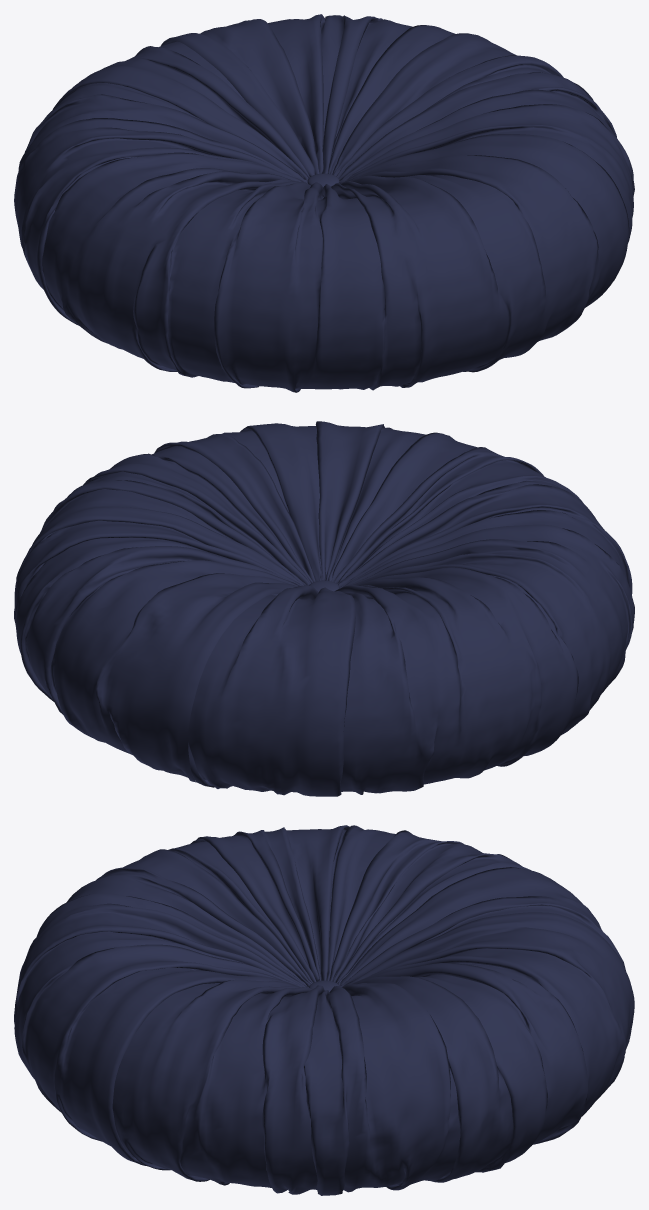
The model's file is SpecularSilkPouf.glb.
3 renders of one model, top to bottom at view 1: azimuth 30°, elevation 25°; view 2: azimuth 150°, elevation 25°; view 3: azimuth 270°, elevation 25°, orthographic.
Parts seen in each view (by area): view 1: SpecularSilkPouf; view 2: SpecularSilkPouf; view 3: SpecularSilkPouf.
Part boxes in pixels (x1,y1,x2,y2): SpecularSilkPouf: [14, 14, 634, 392]; SpecularSilkPouf: [14, 421, 634, 796]; SpecularSilkPouf: [14, 825, 634, 1195].
Bounding box in the file's own units: 0.6099 × 0.1978 × 0.61.
